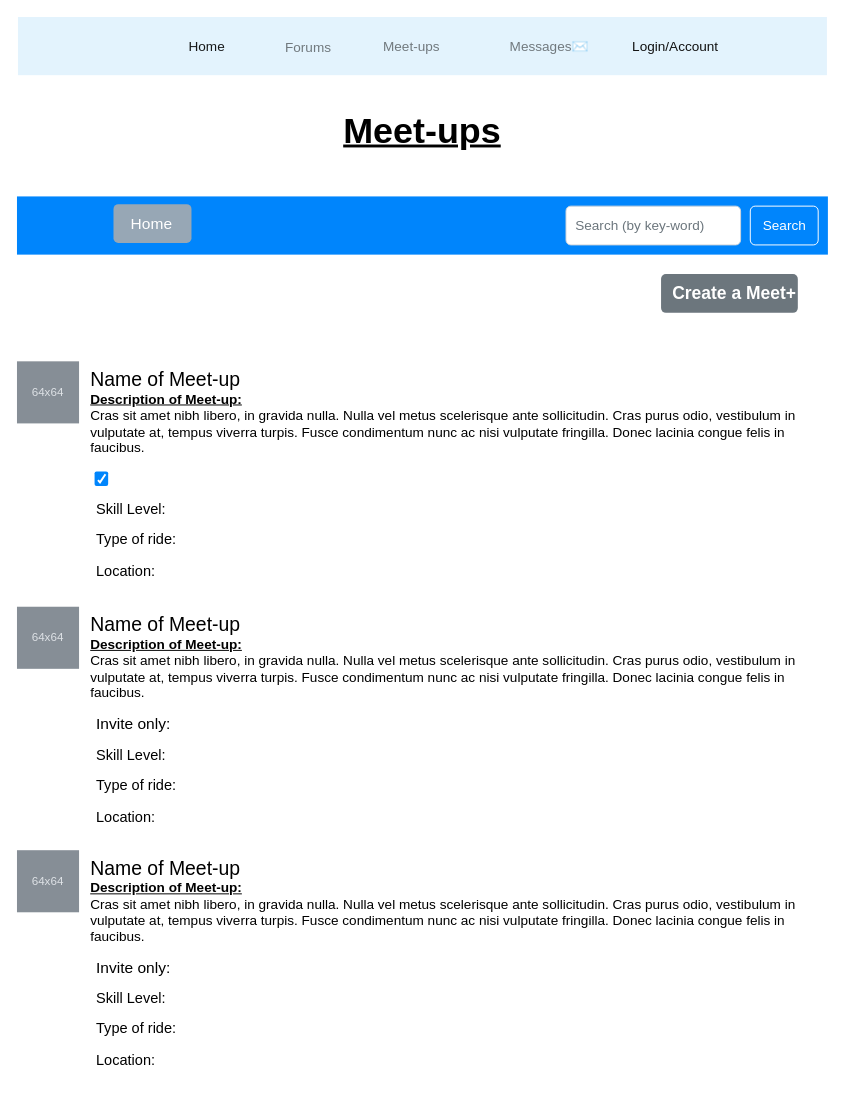
The diagram is 844 pixels wide and 1101 high, and some of its shapes have lost their labels. The box of each missing label's shape, as (x1, y1, x2, y2) in pixels:
Invite Only: (94, 470, 108, 486)
Moto-Media: (17, 16, 826, 75)
Navbar: (16, 196, 827, 254)
